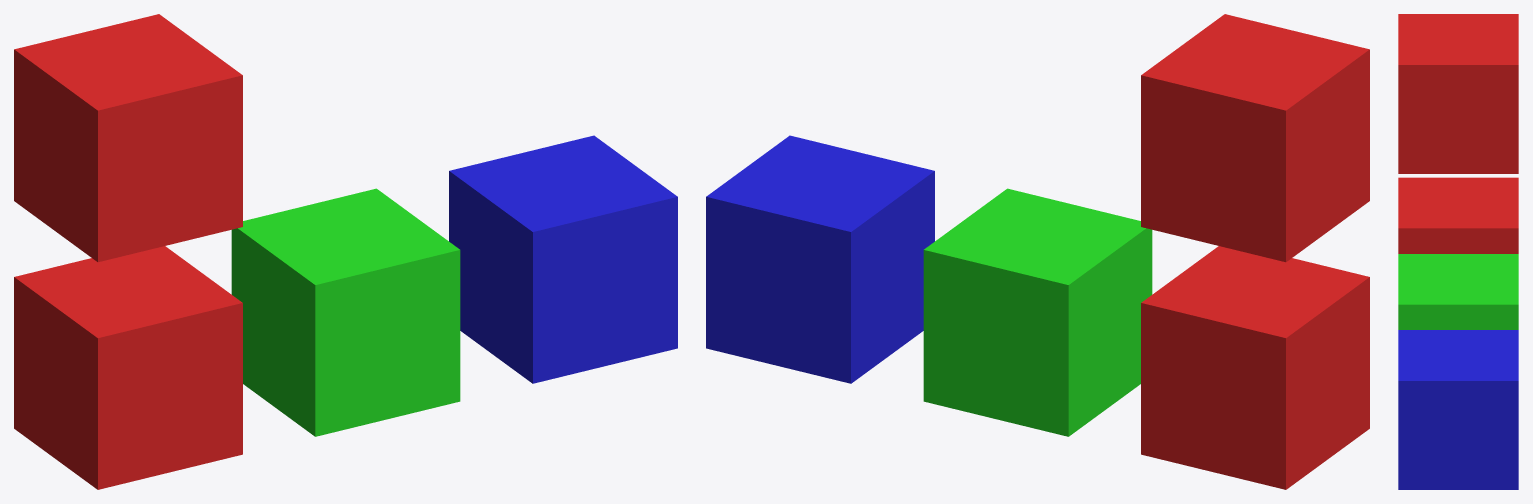
The model's file is AnimatedColorsCubeLOD.glb.
The picture shows the model from 3 angles, left to right: view 1: azimuth 30°, elevation 25°; view 2: azimuth 150°, elevation 25°; view 3: azimuth 270°, elevation 25°; orthographic projection. The views are drawn at different scales.
Visible parts, largest first — view 1: TestCube, 1-RedCube, 2-GreenCube, 3-BlueCube; view 2: TestCube, 1-RedCube, 2-GreenCube, 3-BlueCube; view 3: TestCube, 3-BlueCube, 1-RedCube, 2-GreenCube.
Boxes of the visible parts, x1=… form: TestCube: x1=14, y1=14, x2=242, y2=262; 1-RedCube: x1=14, y1=246, x2=242, y2=489; 2-GreenCube: x1=231, y1=188, x2=460, y2=436; 3-BlueCube: x1=449, y1=135, x2=677, y2=383; TestCube: x1=1141, y1=14, x2=1369, y2=262; 1-RedCube: x1=1141, y1=246, x2=1369, y2=489; 2-GreenCube: x1=923, y1=188, x2=1152, y2=436; 3-BlueCube: x1=706, y1=135, x2=934, y2=383; TestCube: x1=1398, y1=14, x2=1518, y2=173; 3-BlueCube: x1=1398, y1=330, x2=1518, y2=489; 1-RedCube: x1=1398, y1=177, x2=1518, y2=253; 2-GreenCube: x1=1398, y1=254, x2=1518, y2=329.
Size of the model in its own units: 8 by 5 by 2.
